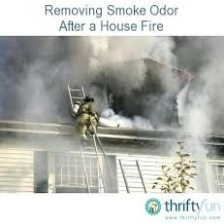smoke: (98, 39, 218, 166)
